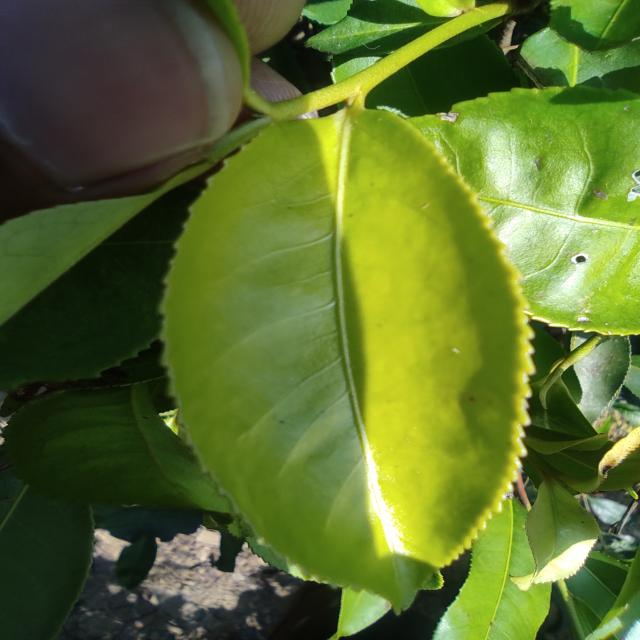Category C 4-7 days: (107, 51, 575, 612)
